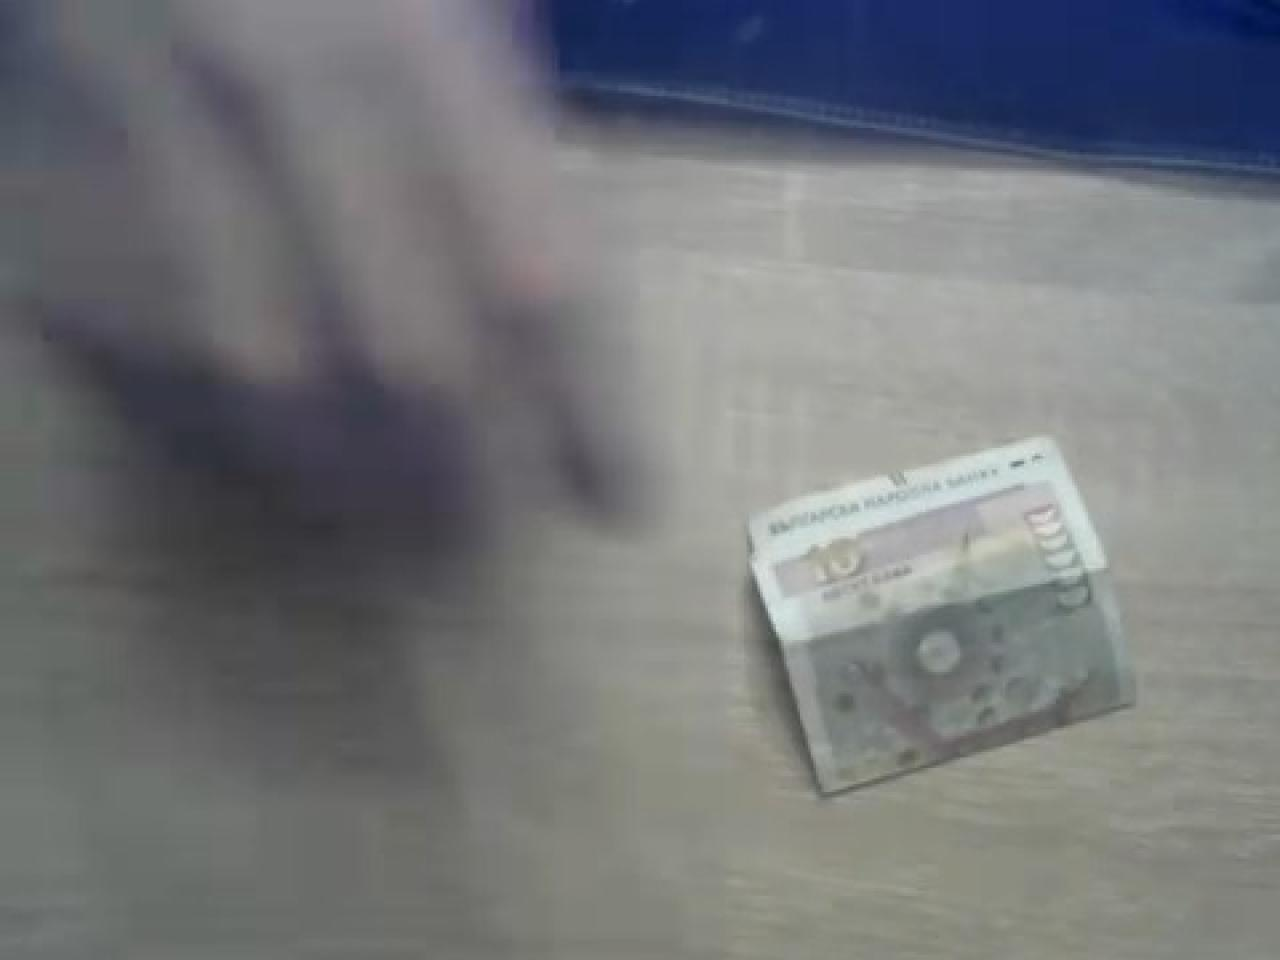10leva: (741, 430, 1139, 798)
